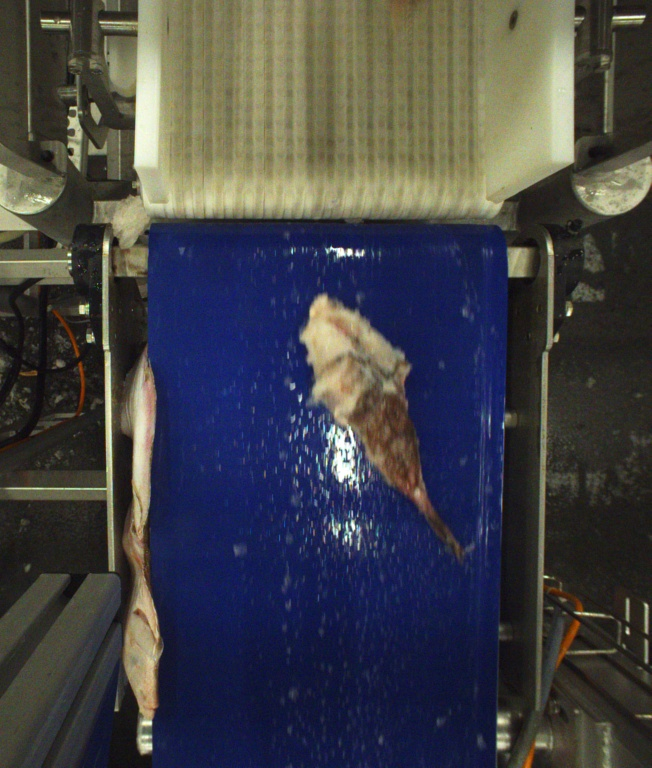ANF: (301, 291, 472, 564)
